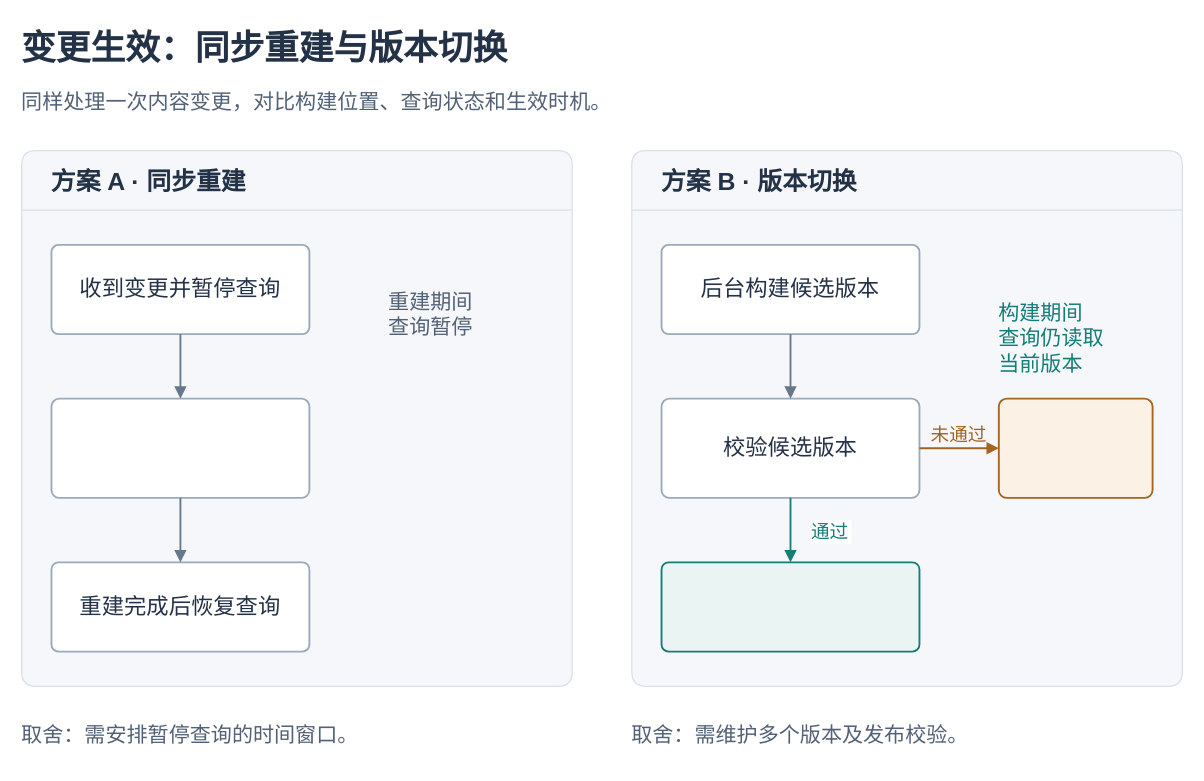
Image size: 1204x781. Some labels were removed from this diagram. Here are the shapes that lost their labels. From the top down, the centre of each, then its label:
At point 180,447: "在当前索引上执行重建".
At point 1075,447: "保留 当前版本".
At point 790,606: "校验通过后切换版本".
